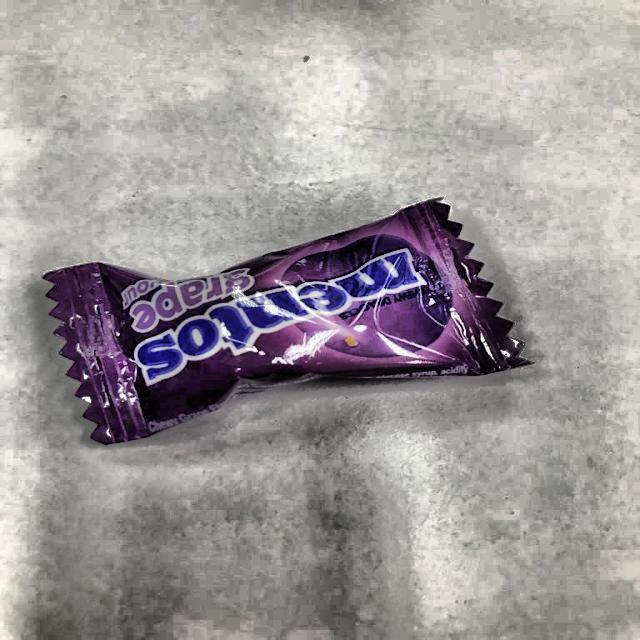Plastic: (64, 212, 507, 434)
